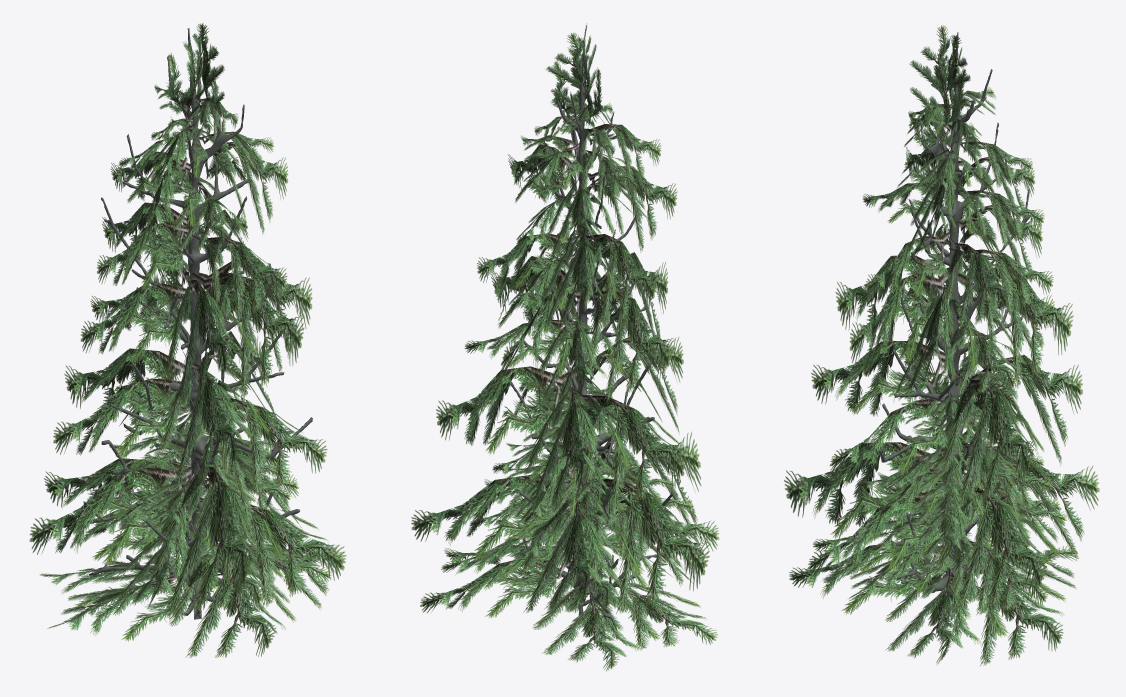
The model's file is TreePine.glb.
The picture shows the model from 3 angles, left to right: view 1: azimuth 30°, elevation 25°; view 2: azimuth 150°, elevation 25°; view 3: azimuth 270°, elevation 25°; orthographic projection.
Parts seen in each view (by area): view 1: TESTTREE2.001; view 2: TESTTREE2.001; view 3: TESTTREE2.001.
Boxes of the visible parts, left/top/right/bottom form: TESTTREE2.001: left=29, top=23, right=346, bottom=657; TESTTREE2.001: left=411, top=23, right=719, bottom=671; TESTTREE2.001: left=784, top=25, right=1099, bottom=665.
Bounding box in the file's own units: 0.9815 × 1.77 × 0.9287.
2 materials, 1 textured.
